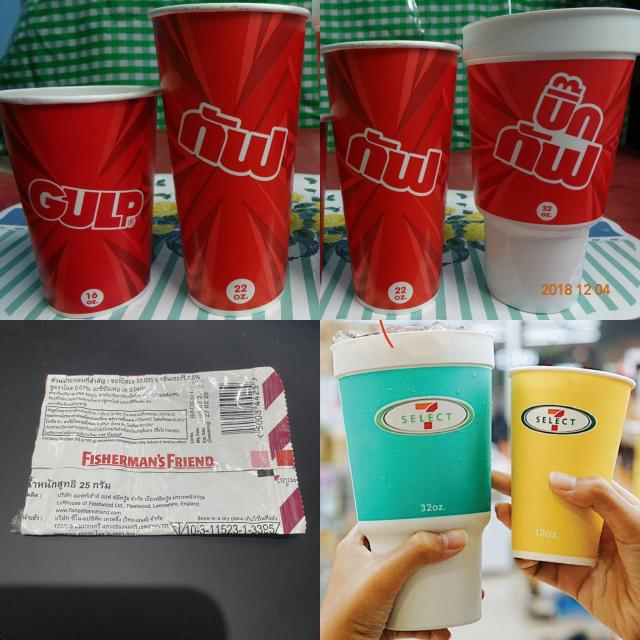Single-Use-Plastic: (462, 8, 640, 312), (149, 4, 309, 314), (330, 330, 494, 630), (322, 41, 461, 314), (1, 86, 159, 318), (509, 366, 635, 564)
